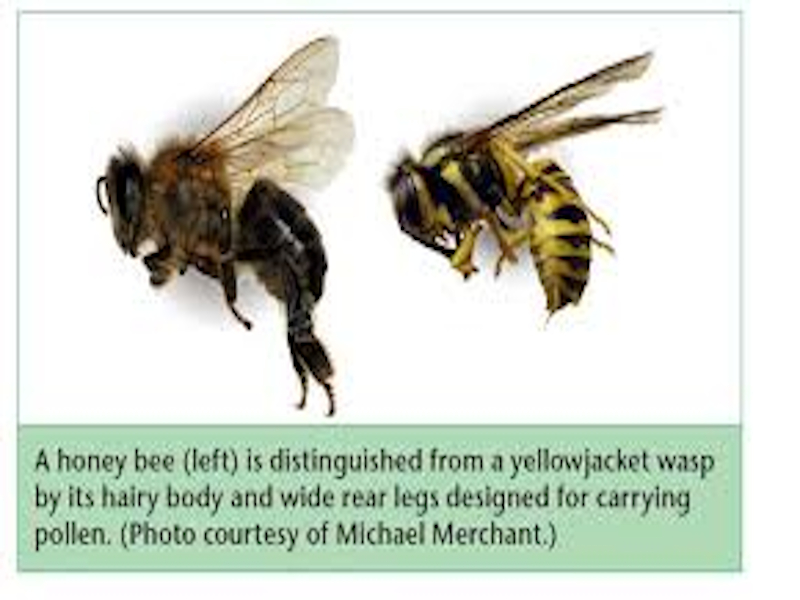abeja: (91, 28, 362, 404)
chax: (372, 30, 699, 339)
